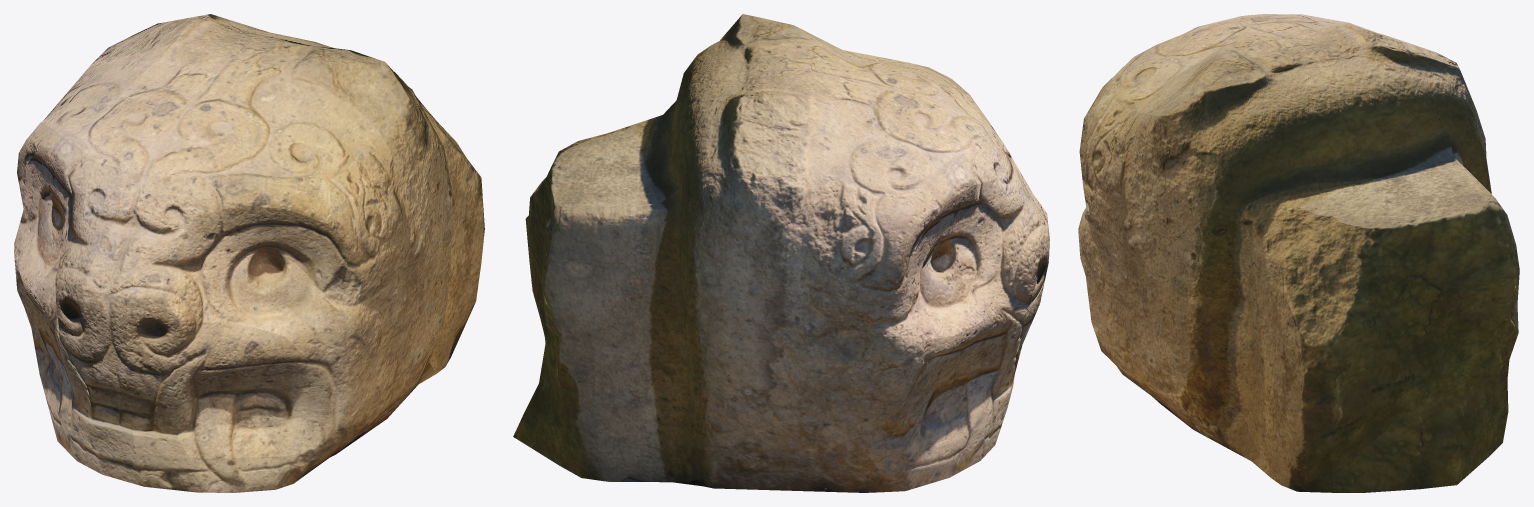
File: cabeza_clava.glb
3 views of the same model, side by side, from view 1: azimuth 30°, elevation 25°; view 2: azimuth 150°, elevation 25°; view 3: azimuth 270°, elevation 25° (orthographic). The views are drawn at different scales.
Visible parts, largest first — view 1: Box001; view 2: Box001; view 3: Box001.
Part boxes in pixels (x1,y1,x2,y2): Box001: [14, 14, 484, 492]; Box001: [513, 14, 1049, 492]; Box001: [1078, 14, 1519, 492].
Size of the model in its own units: 69.21 by 52.12 by 58.62.
Materials: 1 (1 with a texture image).
